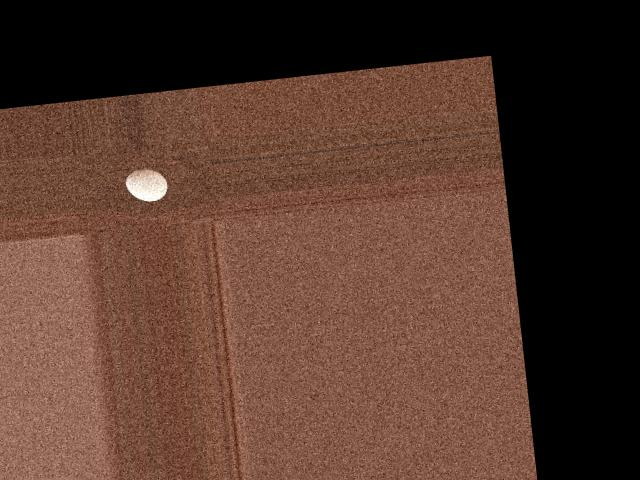egg: (123, 166, 168, 203)
